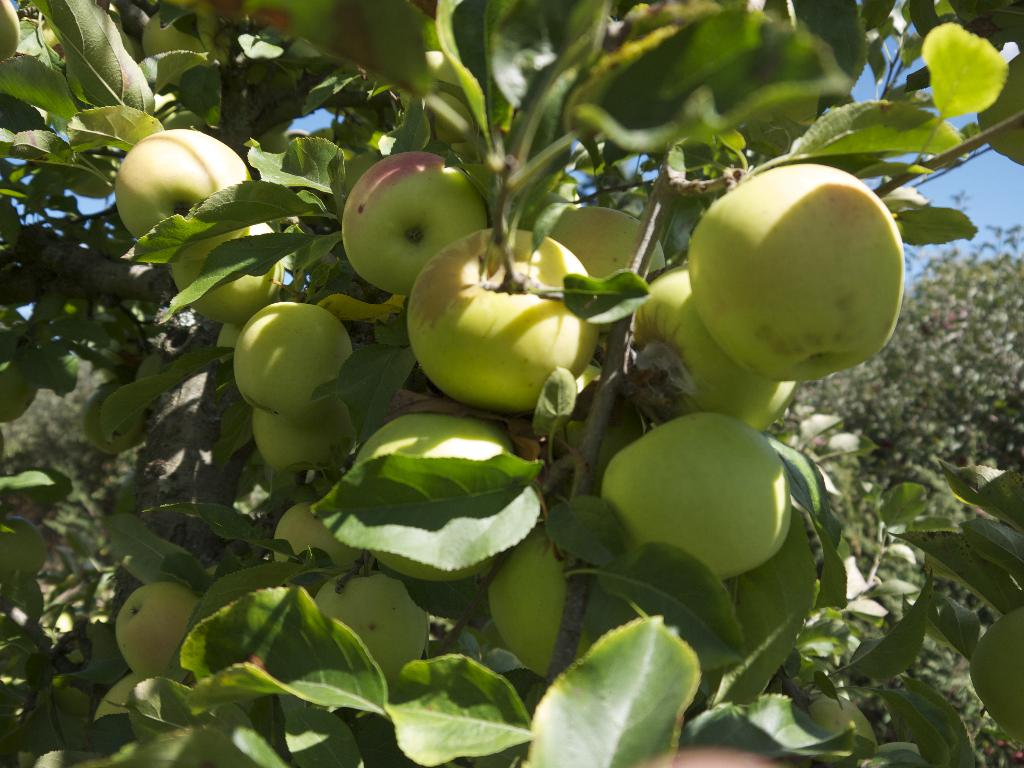Apple: (86, 126, 908, 717), (330, 152, 464, 293)
